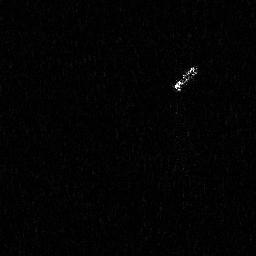ship: (173, 63, 200, 94)
